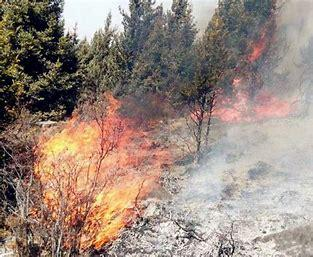smoke: (38, 88, 161, 249), (207, 74, 295, 119)
